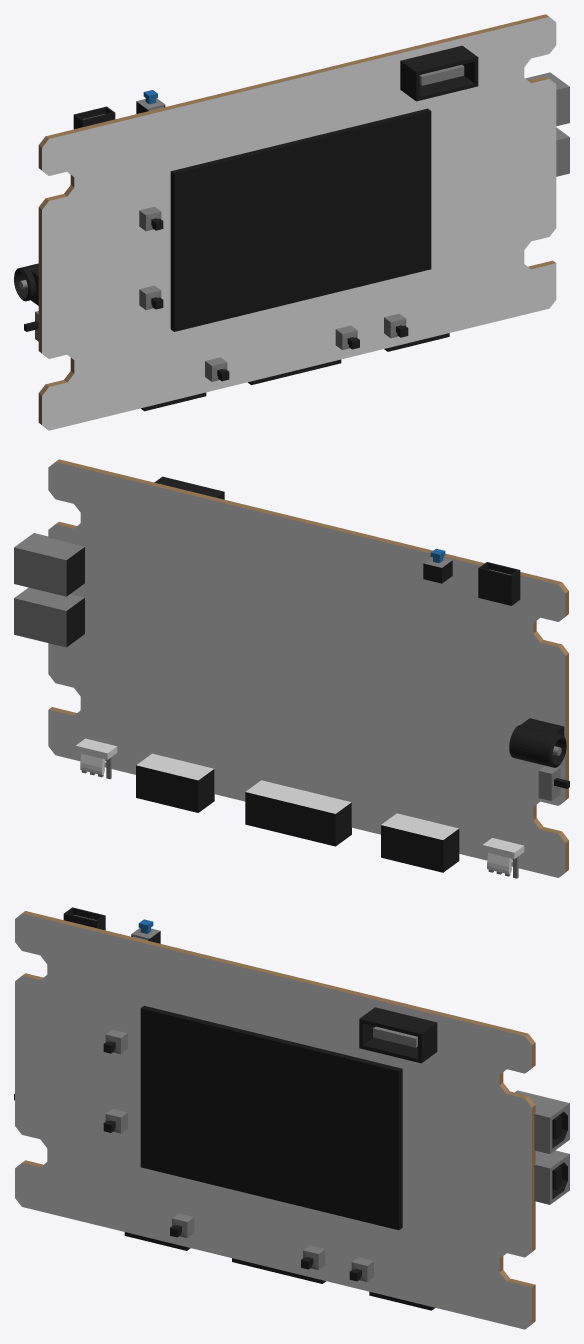
The model's file is PCBmodel.fbx.
3 renders of one model, top to bottom at view 1: azimuth 30°, elevation 25°; view 2: azimuth 150°, elevation 25°; view 3: azimuth 330°, elevation 25°, orthographic.
Parts seen in each view (by area): view 1: PCBmodel; view 2: PCBmodel; view 3: PCBmodel.
Part boxes in pixels (box(x1,y1,x2,y2)): PCBmodel: box(14, 14, 569, 430); PCBmodel: box(14, 459, 569, 878); PCBmodel: box(14, 907, 569, 1329).
Bounding box in the file's own units: 17378 × 9552 × 2218.
